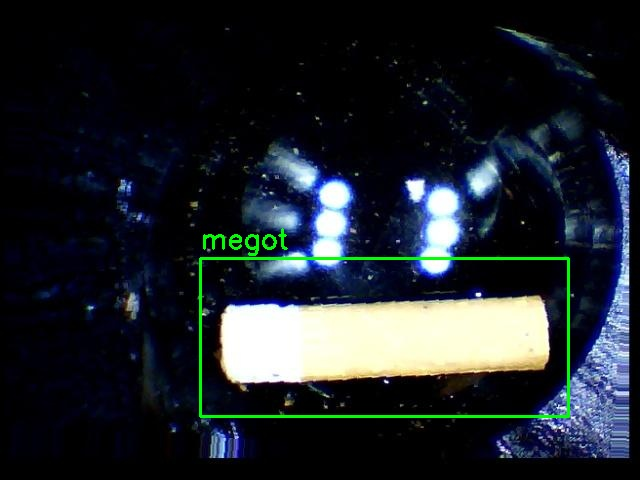megot: (200, 258, 568, 416)
